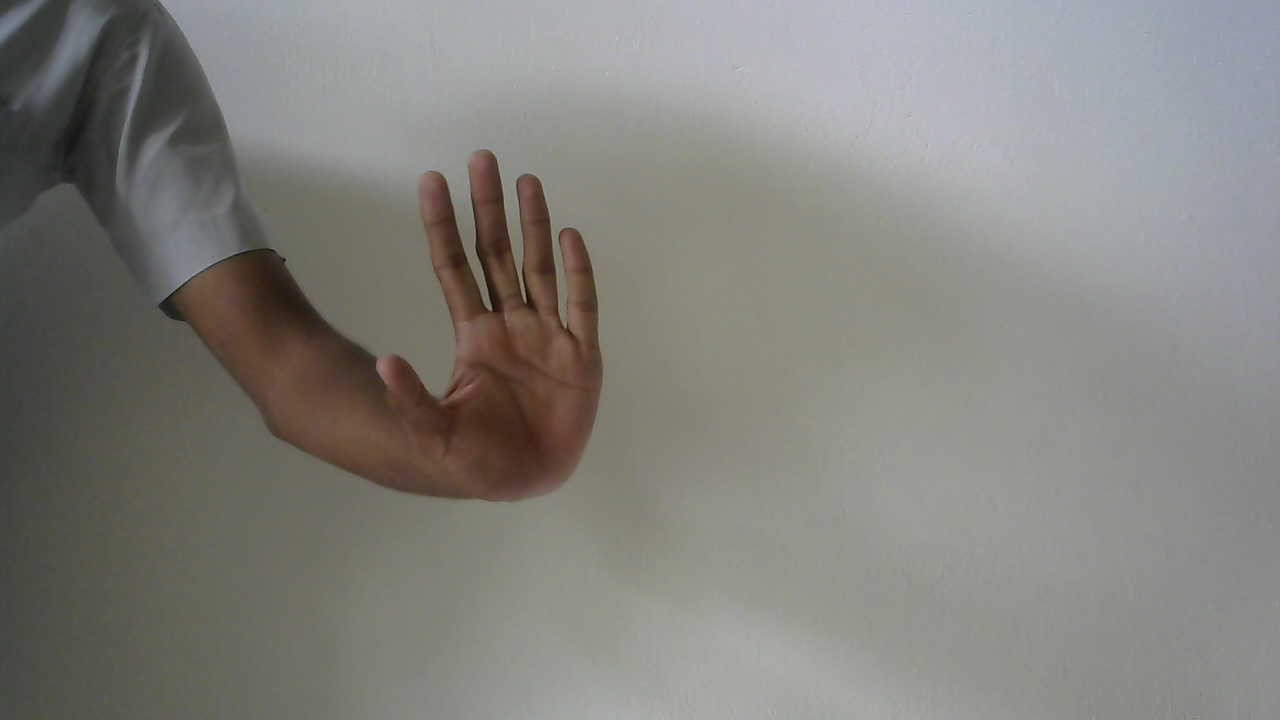hello: (368, 144, 619, 510)
